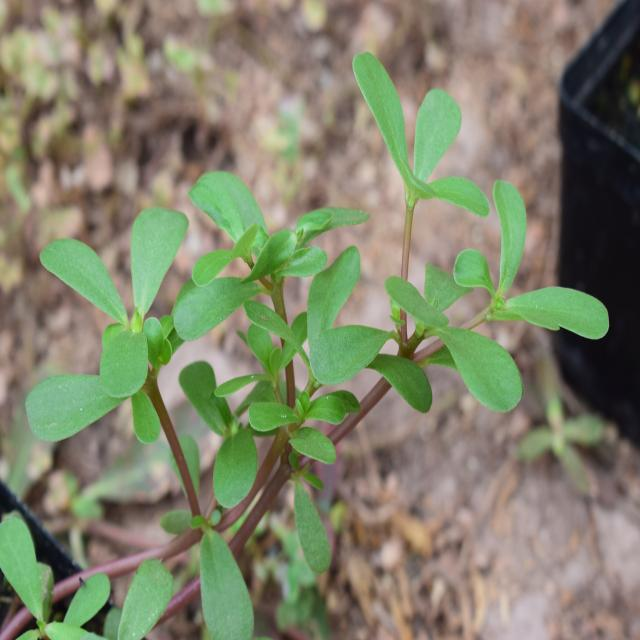purslane: (47, 51, 611, 581)
